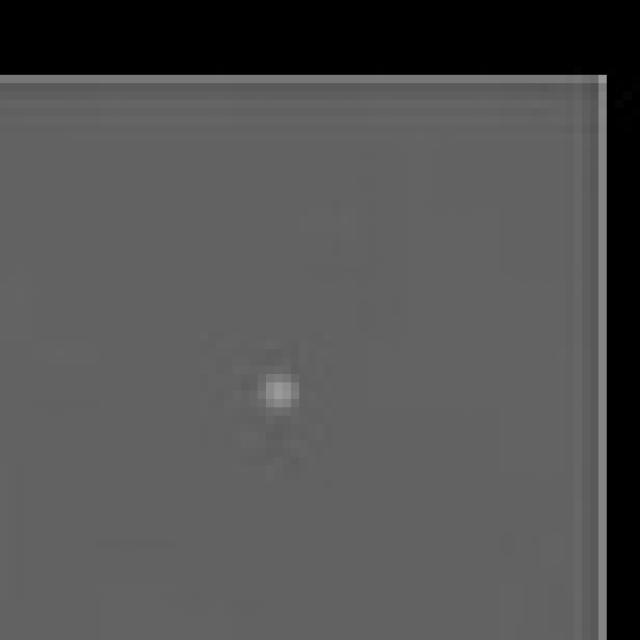Defect1: (236, 332, 332, 464)
